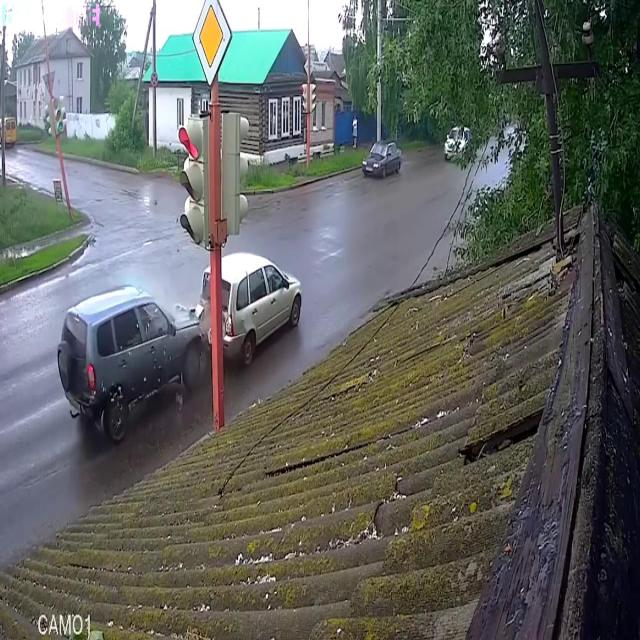accident: (51, 246, 305, 452)
